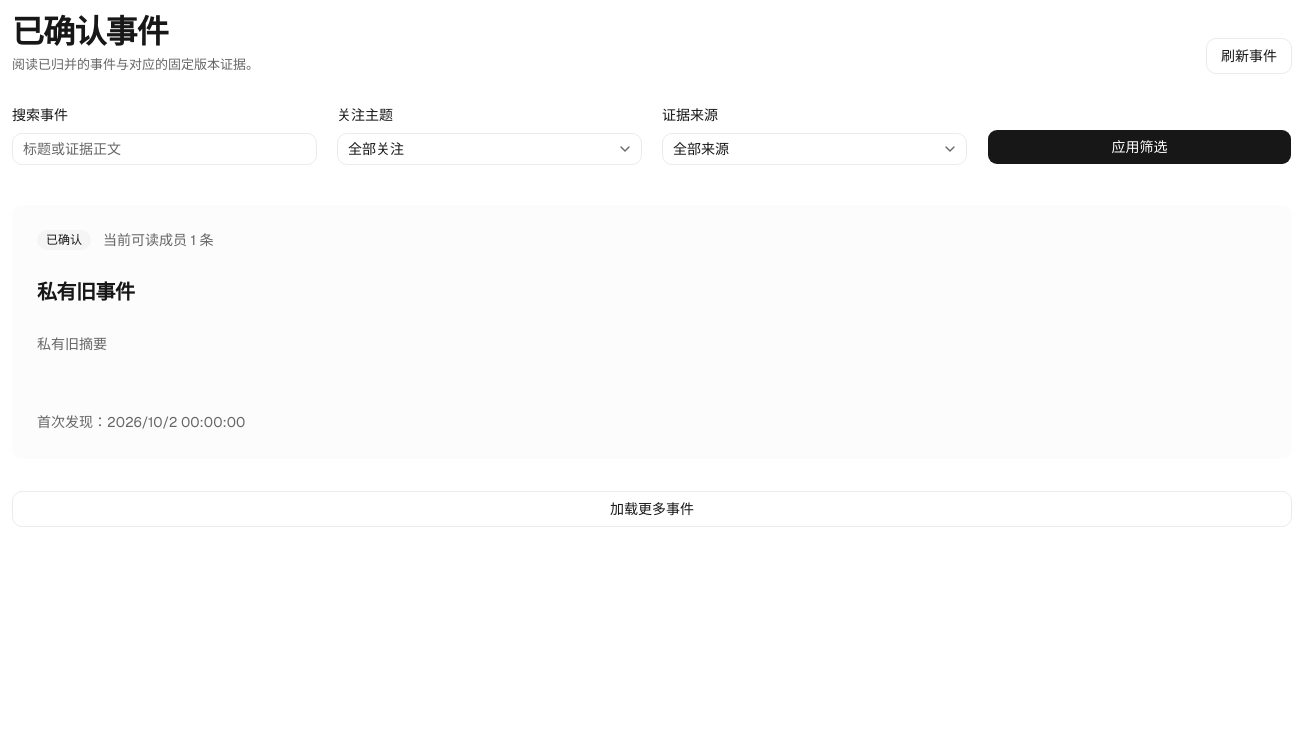
Test case: removes private event titles when the next page is denied (401)
Click the button "加载更多事件" at (652, 509), box top-left (12, 491), bottom-right (1292, 527)
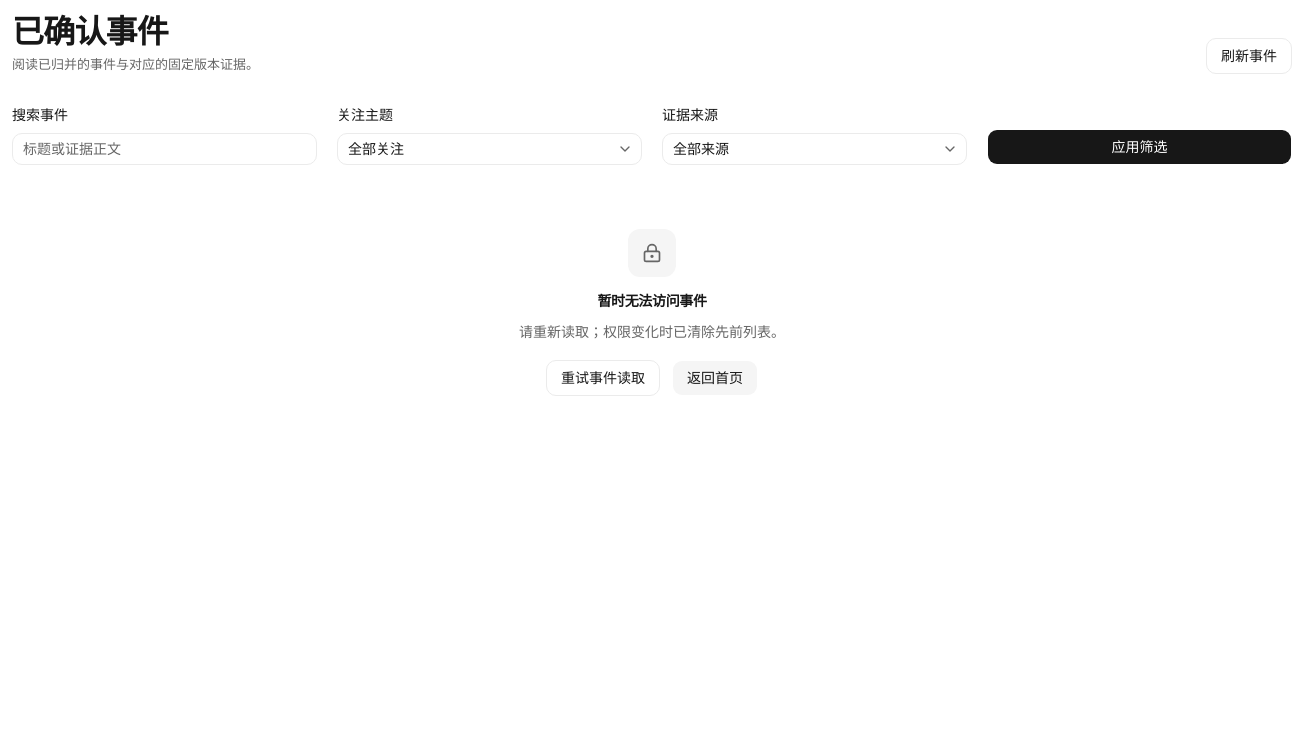
Result: the heading "暂时无法访问事件" is shown at top-left (597, 289), bottom-right (707, 313)
Result: the link "私有旧事件" is gone
Result: the text "私有旧摘要" is gone
